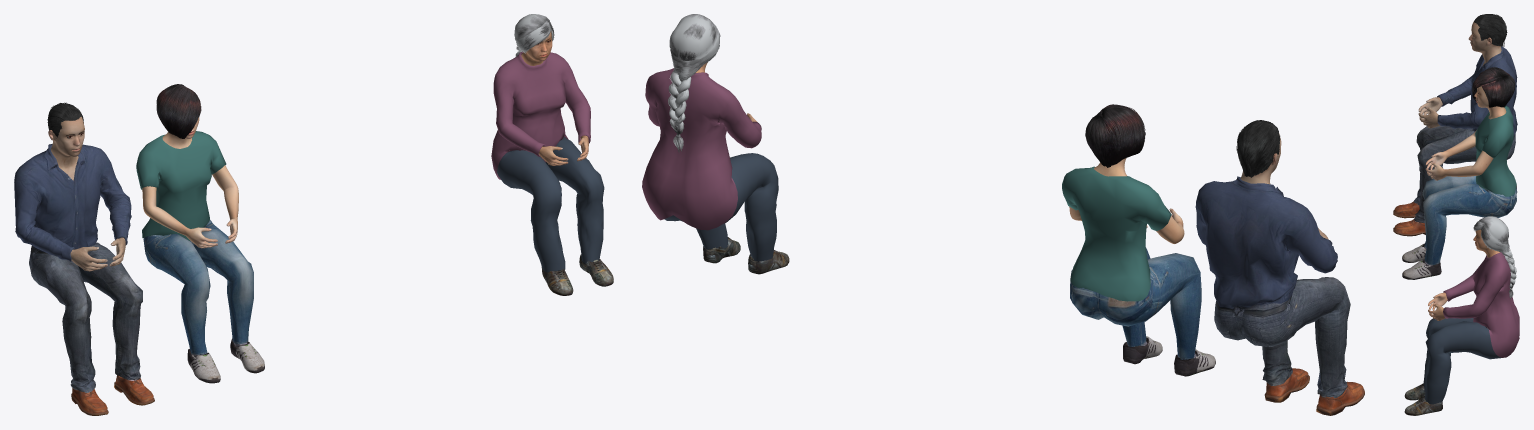
Rendered from audience-near.glb.
The picture shows the model from 3 angles, left to right: view 1: azimuth 30°, elevation 25°; view 2: azimuth 150°, elevation 25°; view 3: azimuth 270°, elevation 25°; orthographic projection. The views are drawn at different scales.
Visible parts, largest first — view 1: male_casualsuit01, male_casualsuit02, female_casualsuit01, Riley | anatomical body, Avery | anatomical body, bob01, shoes05, shoes01, shoes02, Nora | anatomical body, braid01, short04; view 2: male_casualsuit01, male_casualsuit02, female_casualsuit01, braid01, bob01, short04, shoes01, shoes05, shoes02, Riley | anatomical body; view 3: male_casualsuit02, female_casualsuit01, male_casualsuit01, Riley | anatomical body, bob01, braid01, Avery | anatomical body, shoes05, short04, shoes01, shoes02, Nora | anatomical body.
Part boxes in pixels (box(x1,y1,x2,y2)): male_casualsuit01: box(14, 144, 142, 392); male_casualsuit02: box(491, 51, 604, 272); female_casualsuit01: box(136, 131, 253, 354); Riley | anatomical body: box(142, 117, 238, 248); Avery | anatomical body: box(48, 116, 125, 271); bob01: box(156, 84, 201, 138); shoes05: box(187, 338, 264, 383); shoes01: box(71, 375, 154, 415); shoes02: box(541, 254, 613, 295); Nora | anatomical body: box(521, 31, 588, 165); braid01: box(514, 14, 554, 56); short04: box(47, 102, 83, 138); male_casualsuit01: box(1195, 176, 1350, 398); male_casualsuit02: box(642, 68, 778, 261); female_casualsuit01: box(1062, 166, 1201, 359); braid01: box(668, 14, 720, 152); bob01: box(1085, 104, 1145, 167); short04: box(1236, 120, 1280, 177); shoes01: box(1264, 368, 1364, 415); shoes05: box(1123, 336, 1215, 376); shoes02: box(703, 237, 789, 274); Riley | anatomical body: box(1069, 158, 1184, 243); male_casualsuit02: box(1423, 252, 1519, 404); female_casualsuit01: box(1422, 106, 1517, 265); male_casualsuit01: box(1413, 46, 1517, 223); Riley | anatomical body: box(1425, 86, 1506, 180); bob01: box(1472, 67, 1515, 107); braid01: box(1473, 216, 1516, 299); Avery | anatomical body: box(1418, 21, 1501, 128); shoes05: box(1402, 243, 1441, 279); short04: box(1474, 14, 1507, 46); shoes01: box(1393, 201, 1425, 236); shoes02: box(1404, 383, 1442, 415); Nora | anatomical body: box(1428, 229, 1499, 320).
Bounding box in the file's own units: 3.16 × 1.38 × 0.7636.
Materials: 28 (27 with a texture image).
